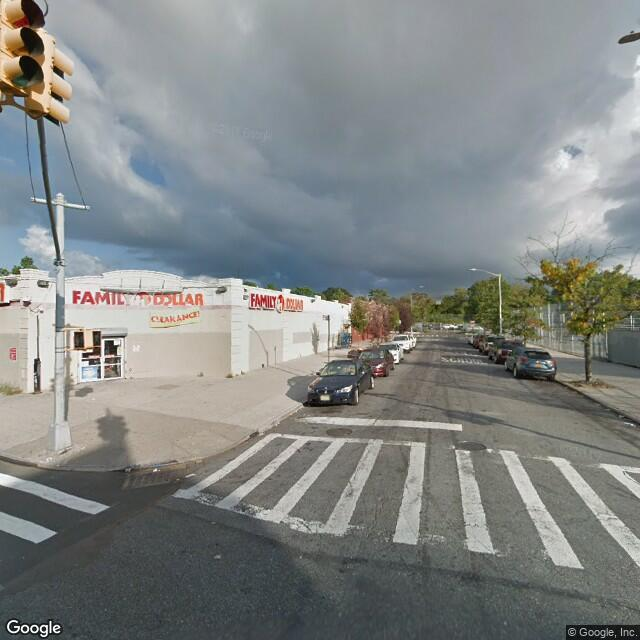litter: (111, 461, 149, 479), (614, 411, 640, 432), (151, 463, 166, 475)
